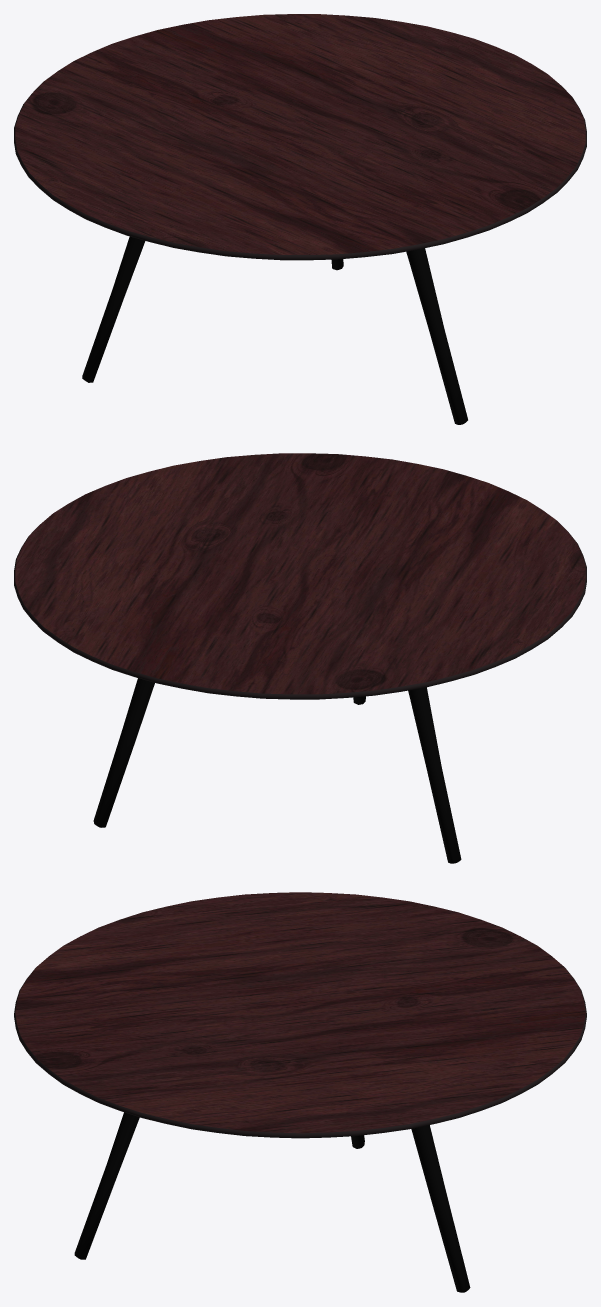
File: coffee-table.glb
The picture shows the model from 3 angles, top to bottom: view 1: azimuth 30°, elevation 25°; view 2: azimuth 150°, elevation 25°; view 3: azimuth 270°, elevation 25°; orthographic projection.
Parts seen in each view (by area): view 1: CoffeeTable; view 2: CoffeeTable; view 3: CoffeeTable.
Part boxes in pixels (<box>): CoffeeTable: <box>14,14,586,424</box>; CoffeeTable: <box>14,453,586,863</box>; CoffeeTable: <box>14,892,586,1292</box>.
Bounding box in the file's own units: 1.01 × 0.4358 × 1.01.
3 materials, 1 textured.
